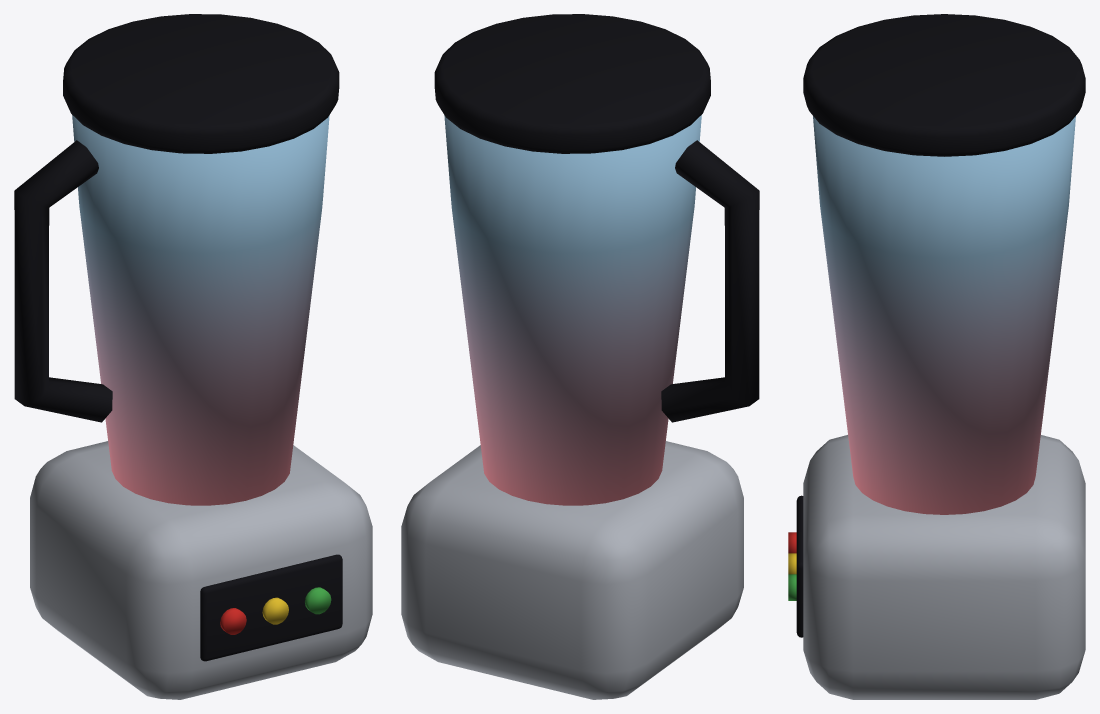
The model's file is blender.glb.
3 renders of one model, left to right at view 1: azimuth 30°, elevation 25°; view 2: azimuth 150°, elevation 25°; view 3: azimuth 270°, elevation 25°, orthographic.
Parts seen in each view (by area): view 1: blender; view 2: blender; view 3: blender.
Boxes of the visible parts, x1,y1,x2,y2 form: blender: (14, 14, 372, 699); blender: (401, 14, 759, 699); blender: (788, 14, 1085, 699).
Bounding box in the file's own units: 0.2138 × 0.39 × 0.179.
